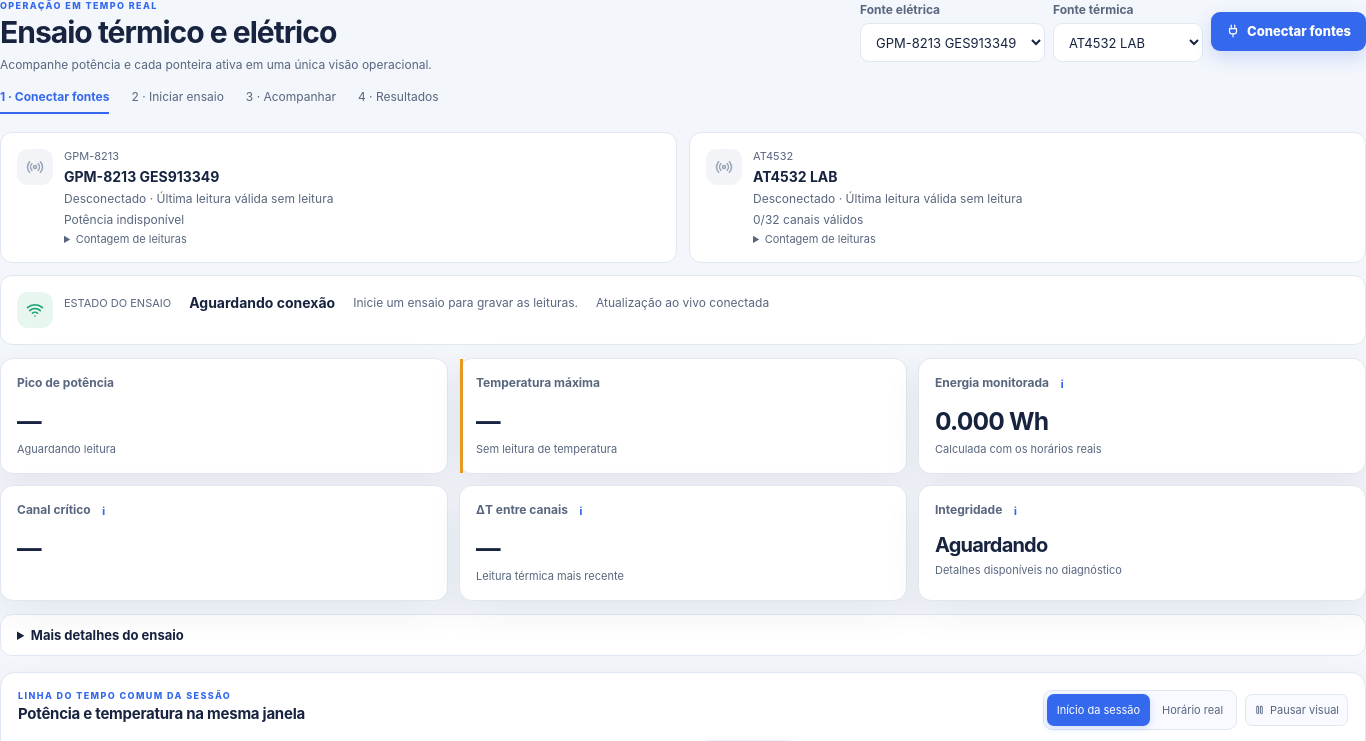
Scenario: conexão parcial da dashboard › mantém a fonte saudável quando electrical falha
This screenshot has width=1366, height=741.
Click the button "Conectar fontes": [1288, 31] box x1=1211 y1=12 x2=1365 y2=51
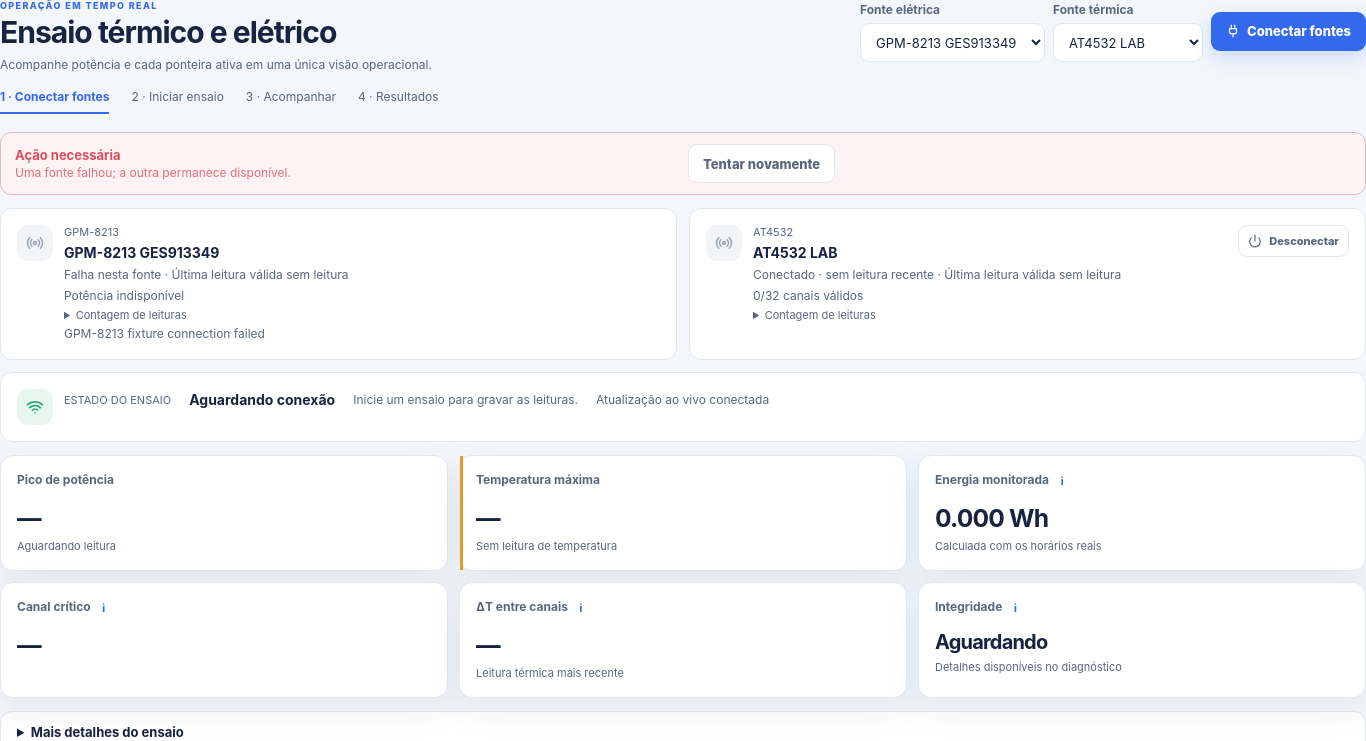
Expected: the text "Uma fonte falhou; a outra permanece disponível." is shown, x1=15 y1=165 x2=291 y2=180
Expected: the text "GPM-8213 fixture connection failed" is shown, x1=64 y1=326 x2=265 y2=341
Expected: the text "Falha nesta fonte · Última leitura válida sem leitura" is shown, x1=64 y1=267 x2=348 y2=282
